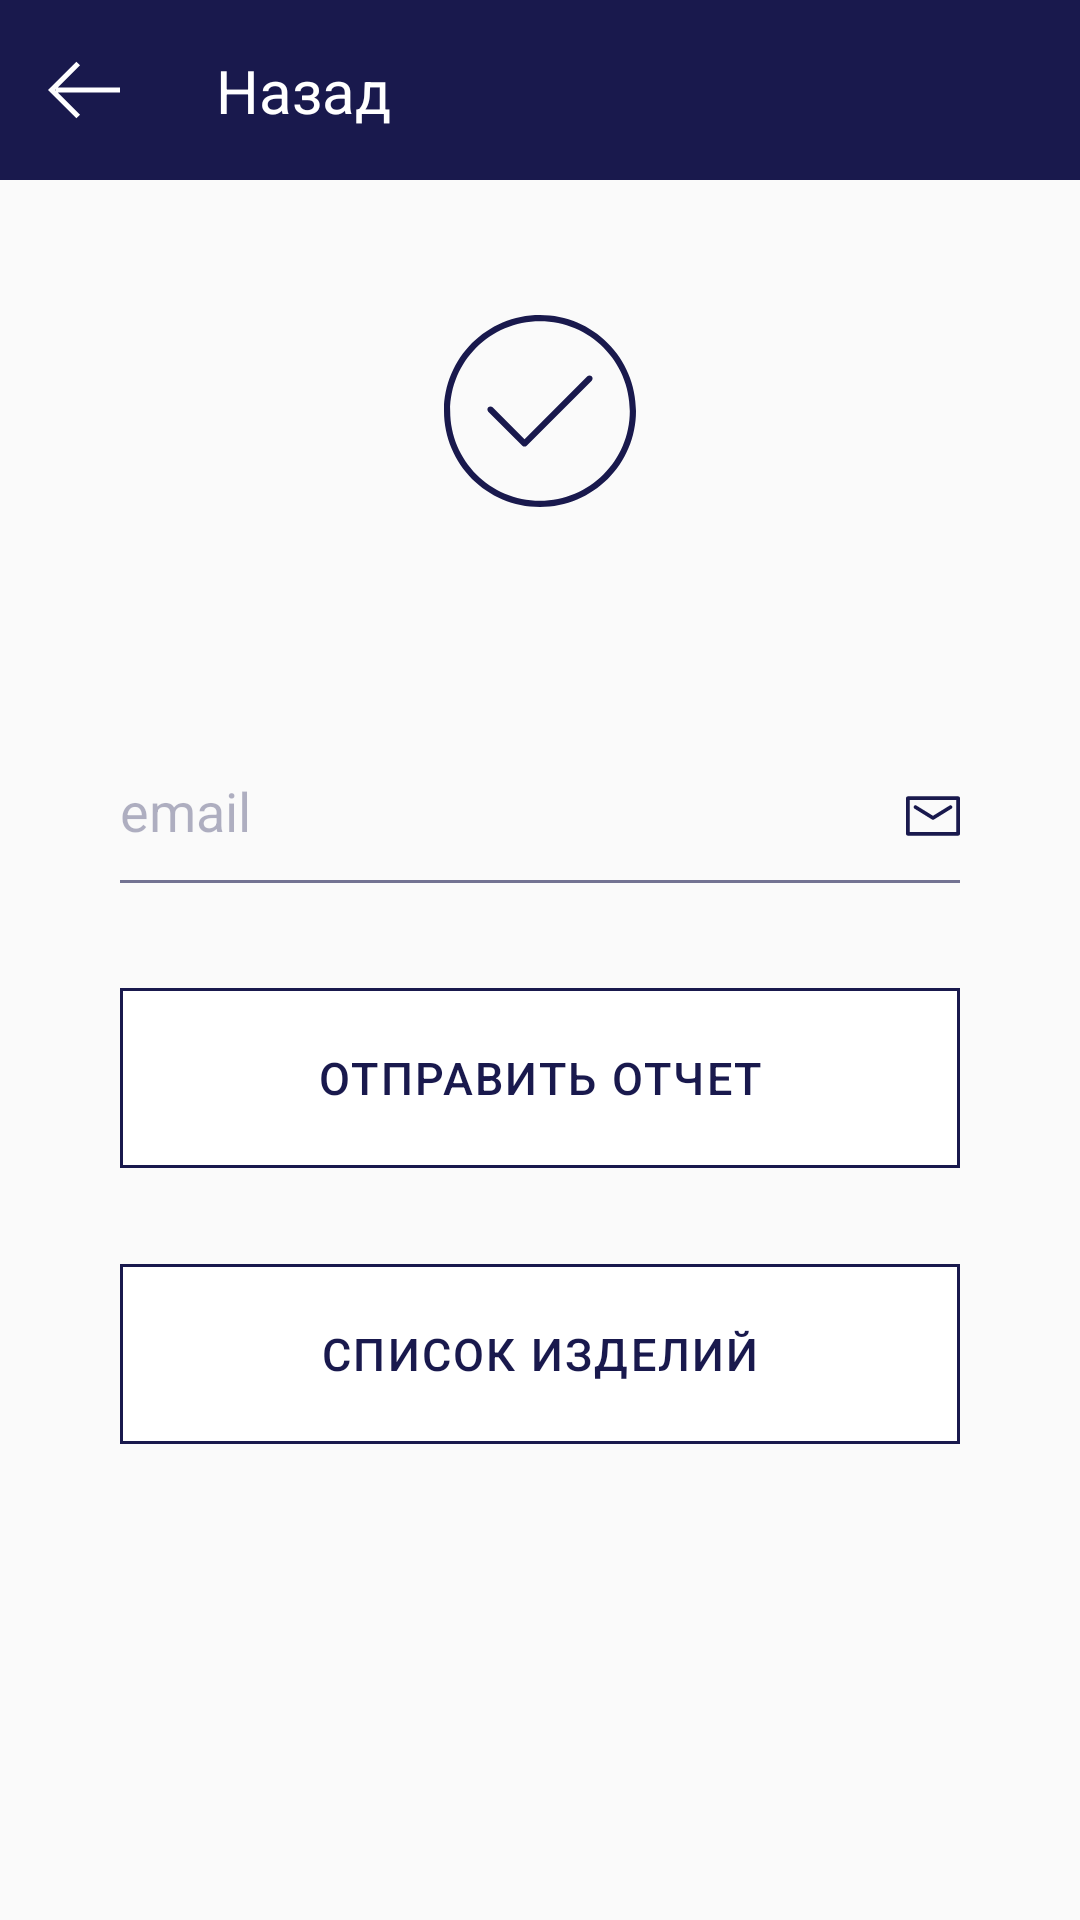

Icon click points for this 1080x1920 phone screenshot, format [x,y]:
back: [84,90]
success: [540,411]
